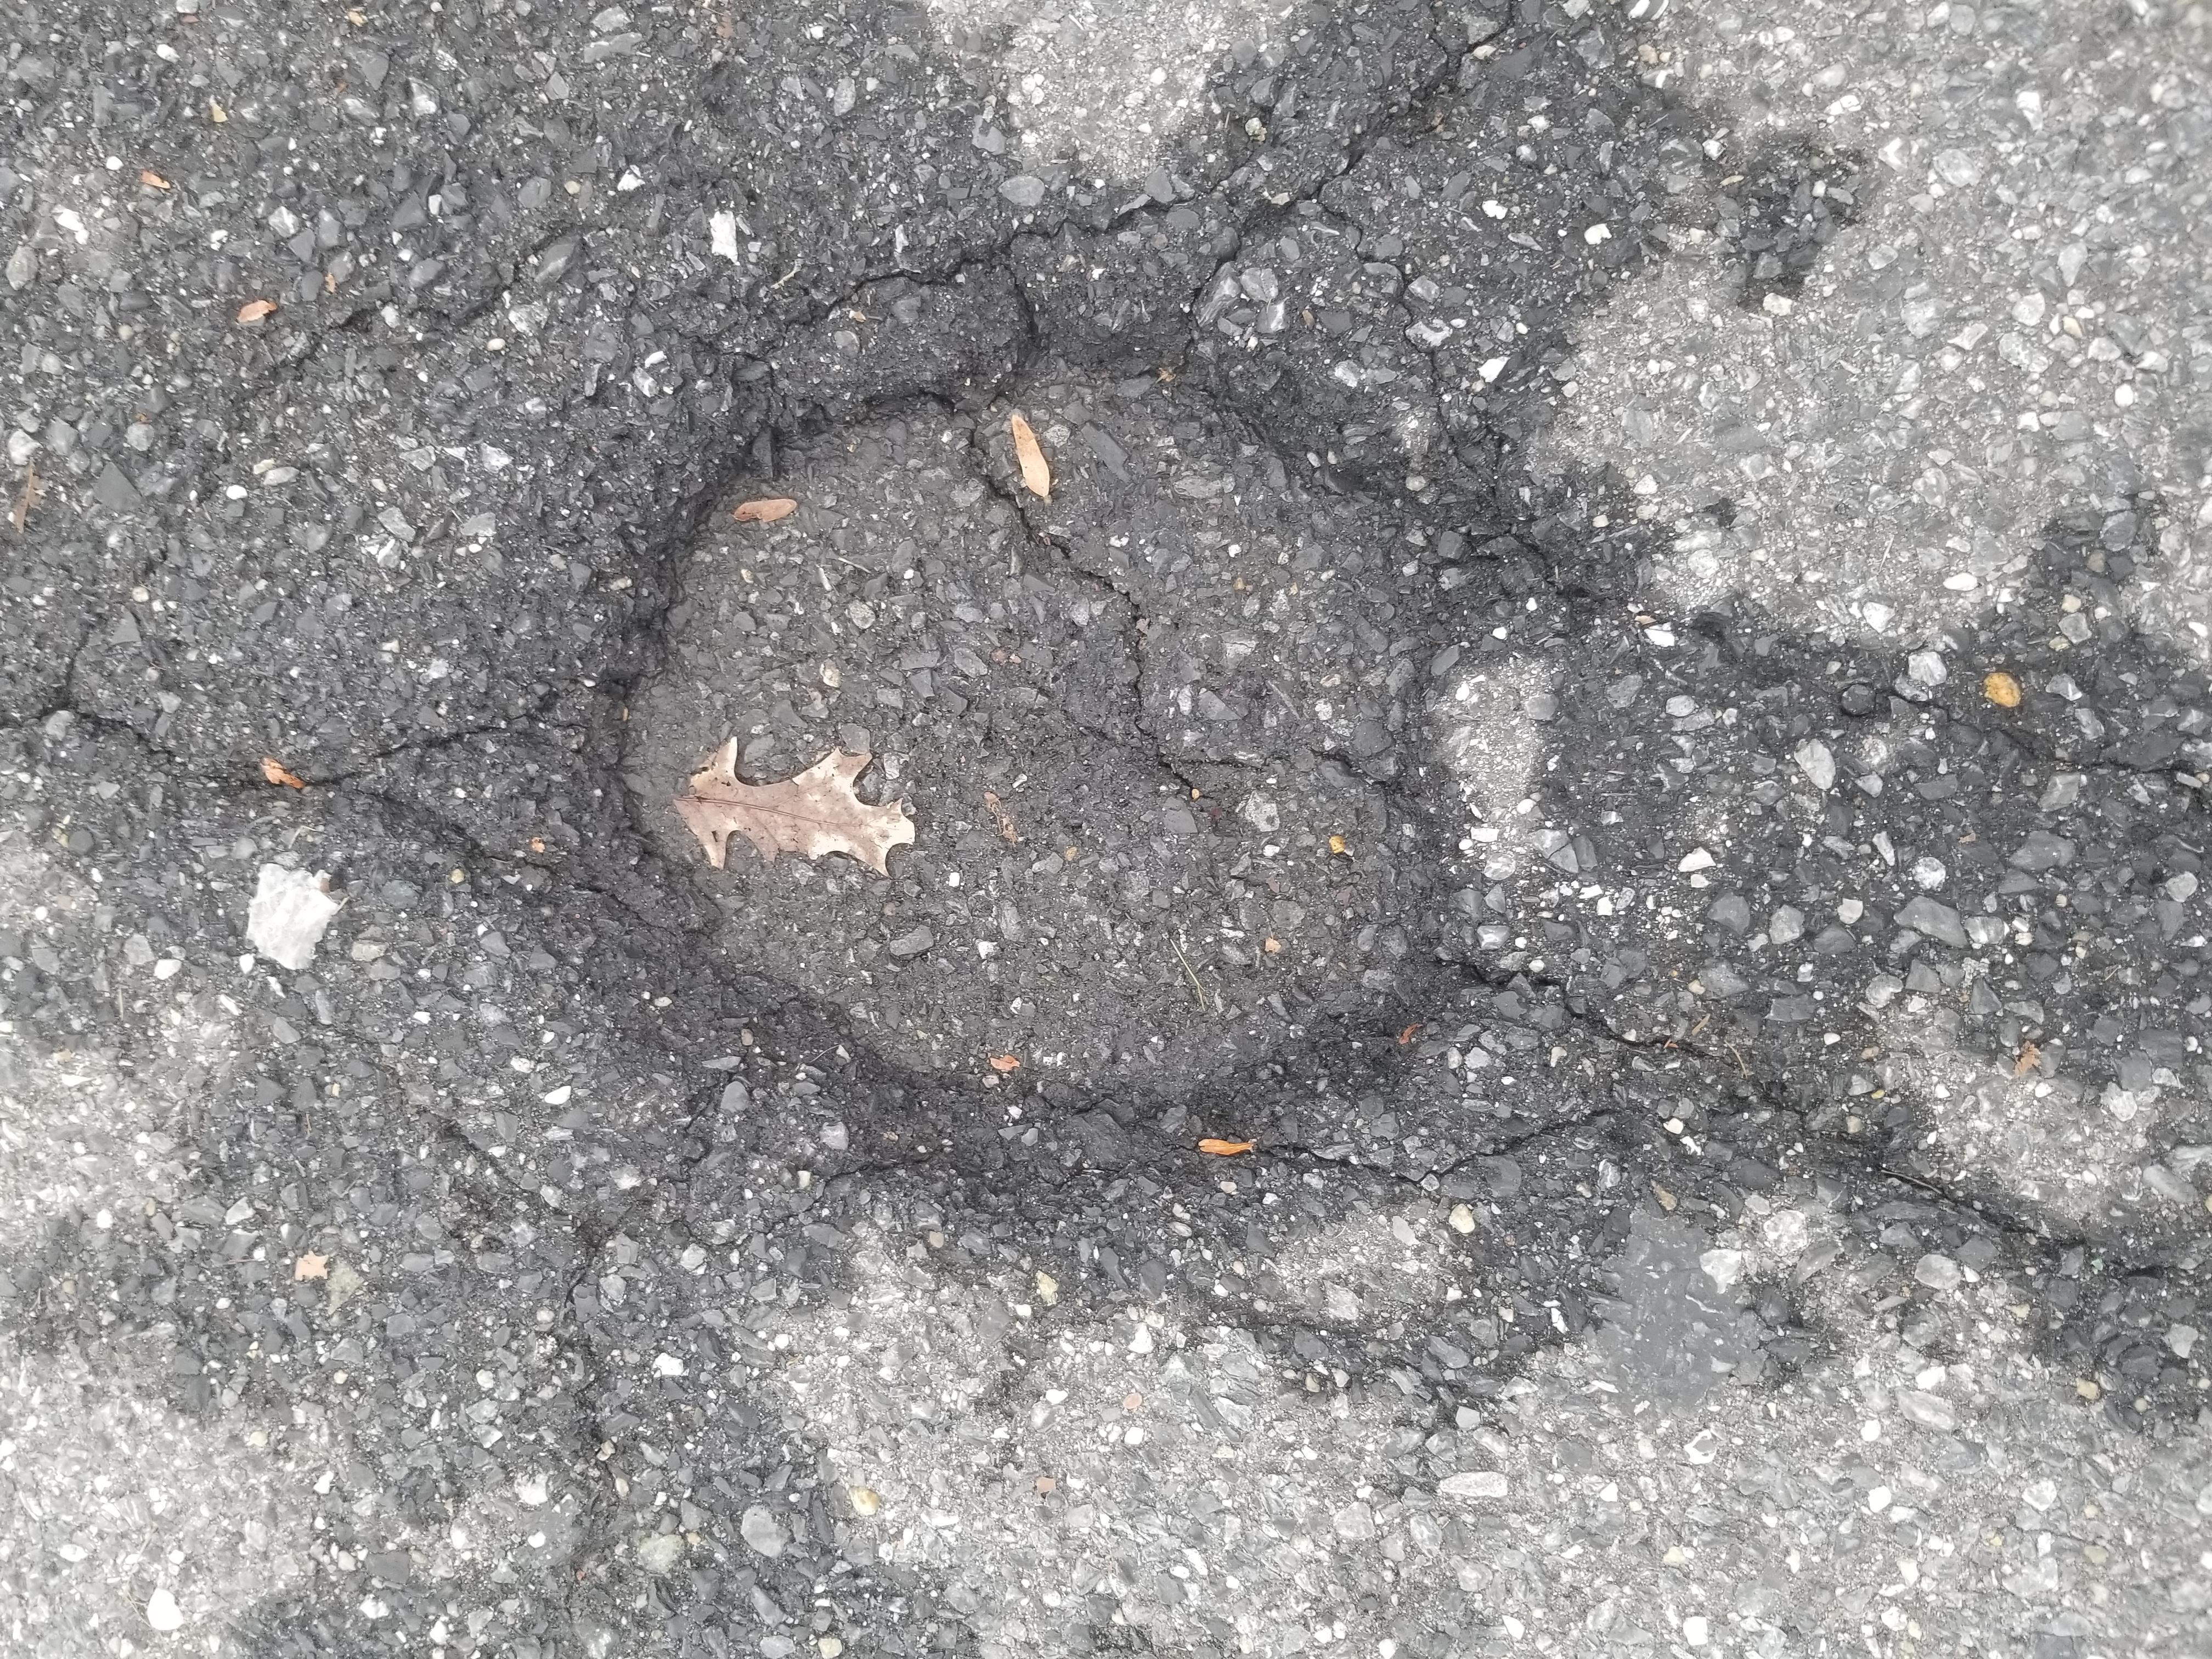crack: (435, 1073, 965, 1659), (1167, 1084, 1517, 1659), (1832, 885, 2212, 1143)
pothole: (678, 423, 1791, 1124)
